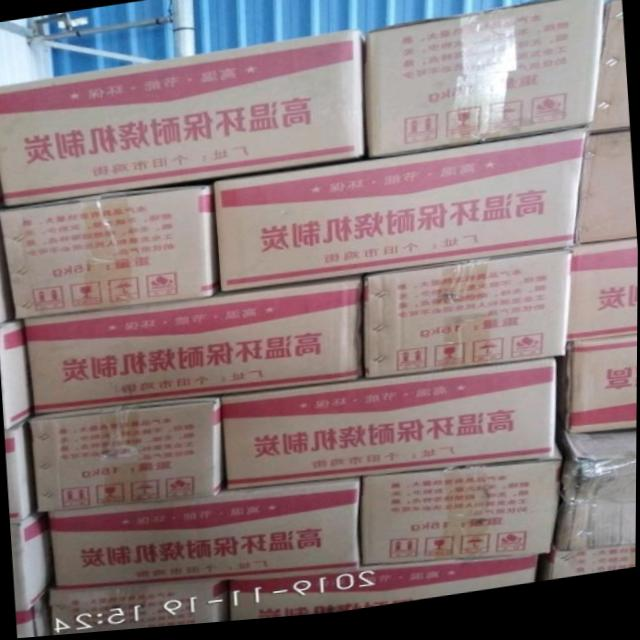box: (0, 37, 367, 205), (210, 134, 581, 294), (21, 281, 363, 415), (217, 367, 564, 492), (367, 1, 596, 159), (44, 482, 361, 583), (0, 189, 220, 318), (364, 259, 573, 380), (30, 397, 217, 516), (359, 465, 556, 571), (231, 561, 541, 625), (47, 576, 228, 637), (548, 438, 637, 556), (561, 343, 638, 443), (564, 247, 638, 349), (573, 140, 636, 251), (587, 10, 630, 142), (0, 317, 35, 432), (12, 514, 51, 614), (541, 553, 637, 587), (6, 420, 30, 525), (18, 581, 55, 639)
